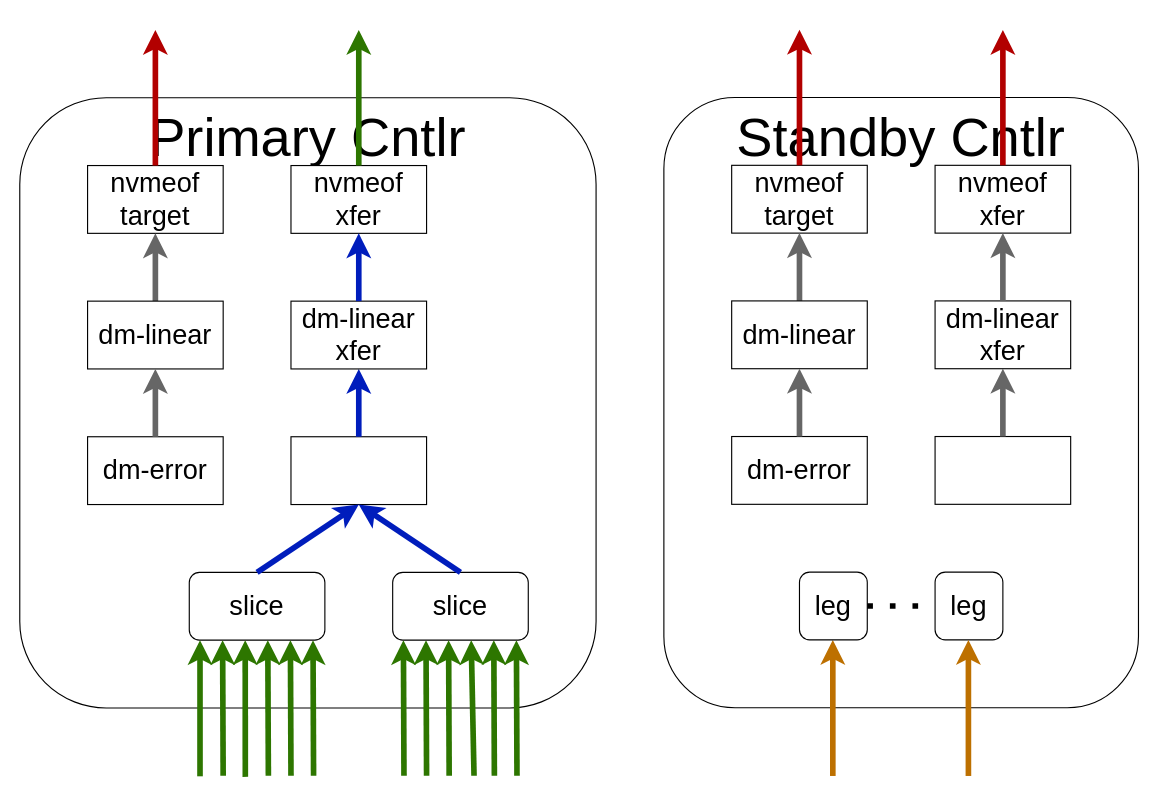
Some shapes in this 1158 by 809 pixel diagram are drawn without their labels. The shapes that lost their labels are listed below. From the top down, each one's centre as x and y in pixels, then its label:
point 358,470: raid0
point 1002,469: dm-error xfer
